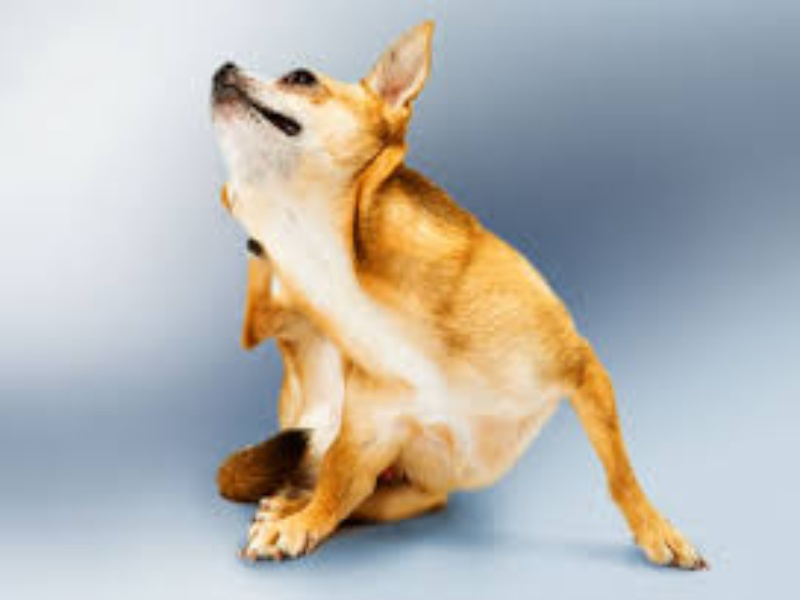dog: (187, 18, 715, 583)
